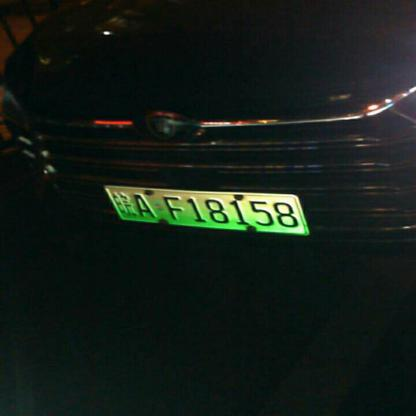lp: (104, 186, 307, 234)
